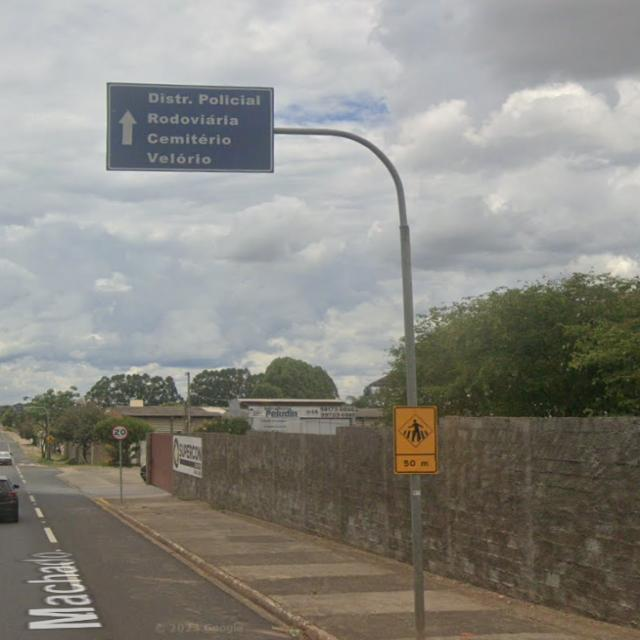indication: (86, 67, 286, 182)
pedestrian crossing: (374, 391, 459, 486)
